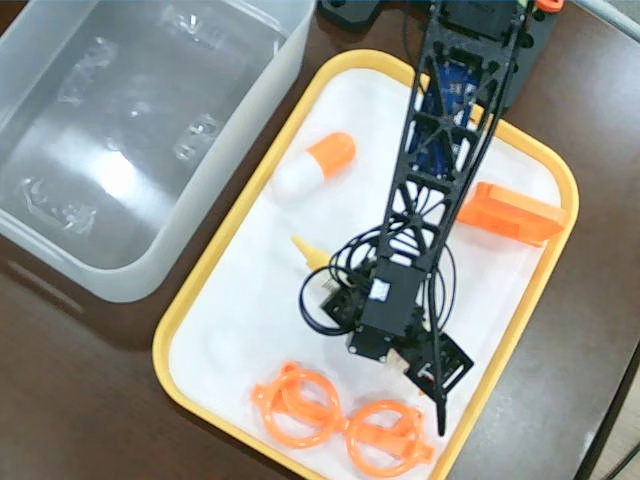pill: (270, 132, 359, 200)
